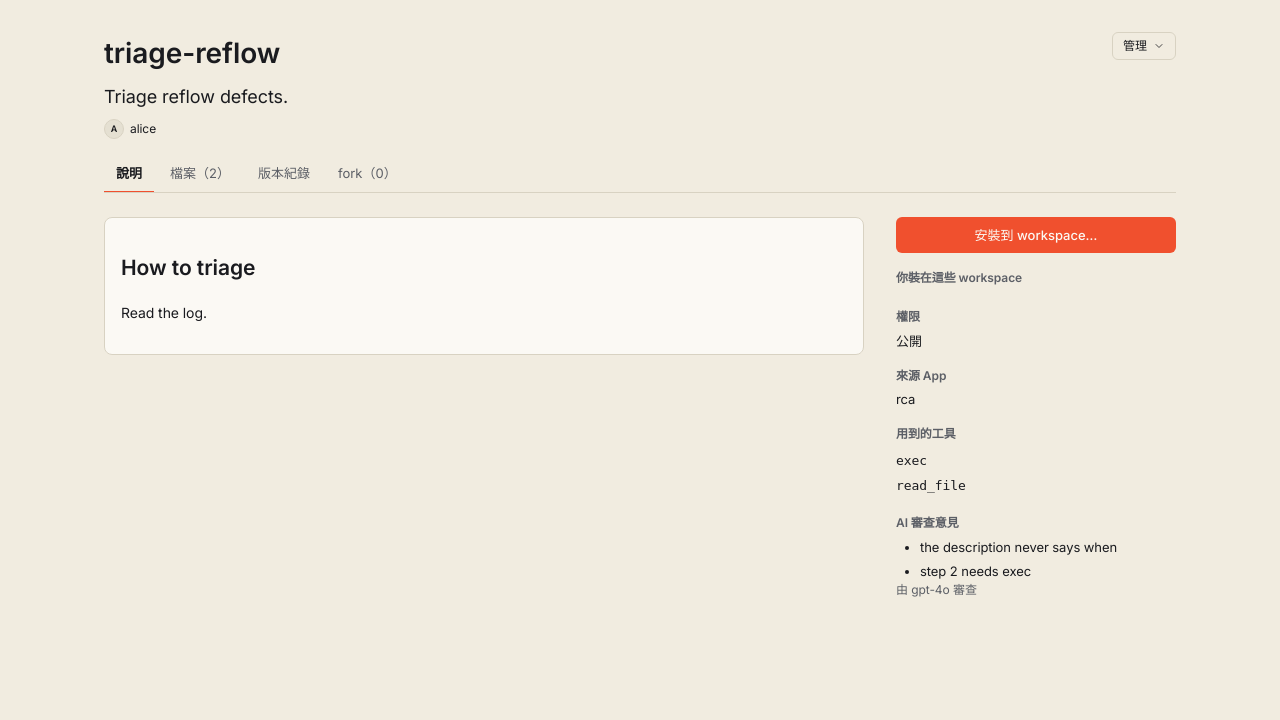
Test case: SkillHubEntryPage › opens the visibility dialog with 'Public' meaning everyone on the platform (D12)
Click the button "管理" at (1144, 46), box [1112,32,1176,60]
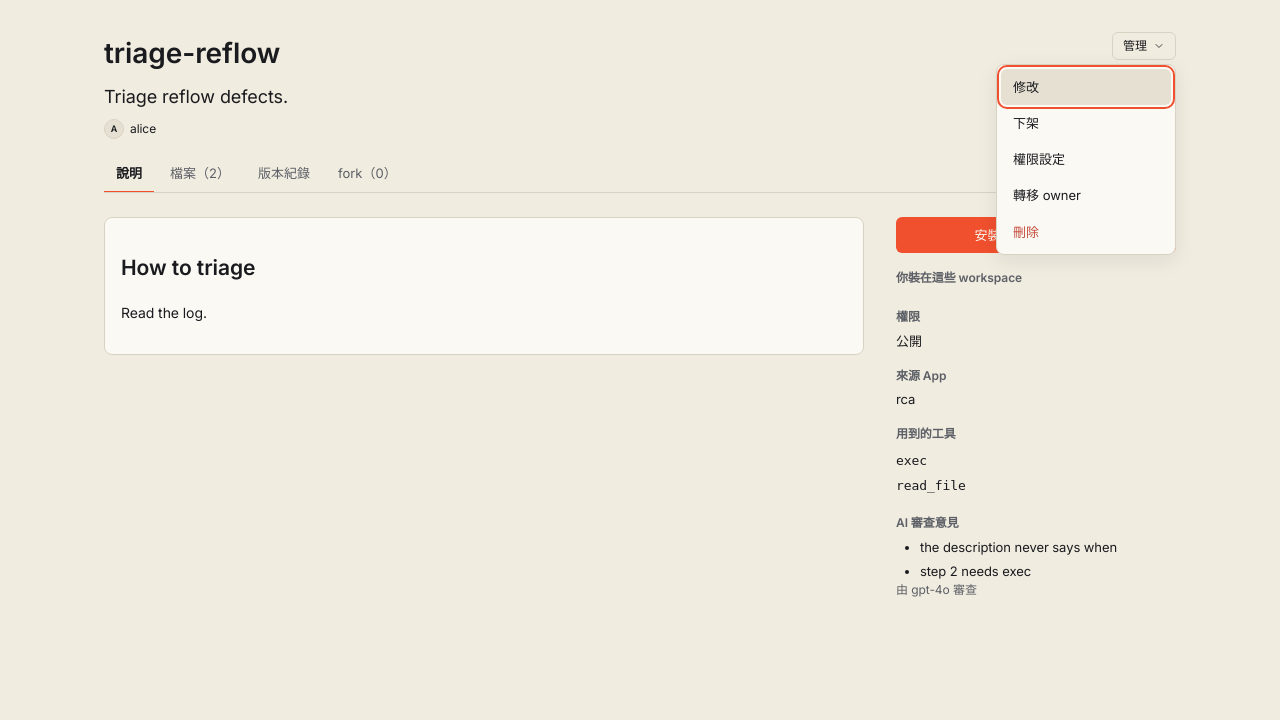
Click the menu item "權限設定" at (1086, 159), box [1001,141,1171,177]
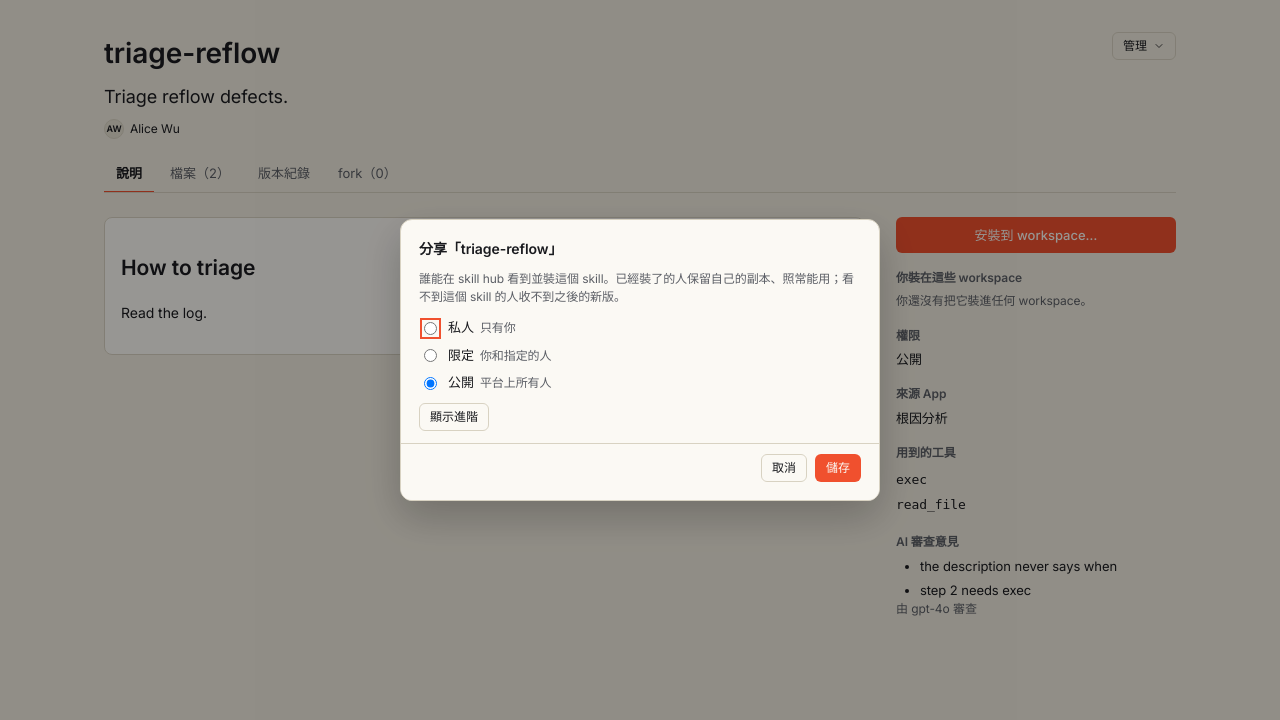
Result: the text "平台上所有人" is shown at [480,375,552,390]
